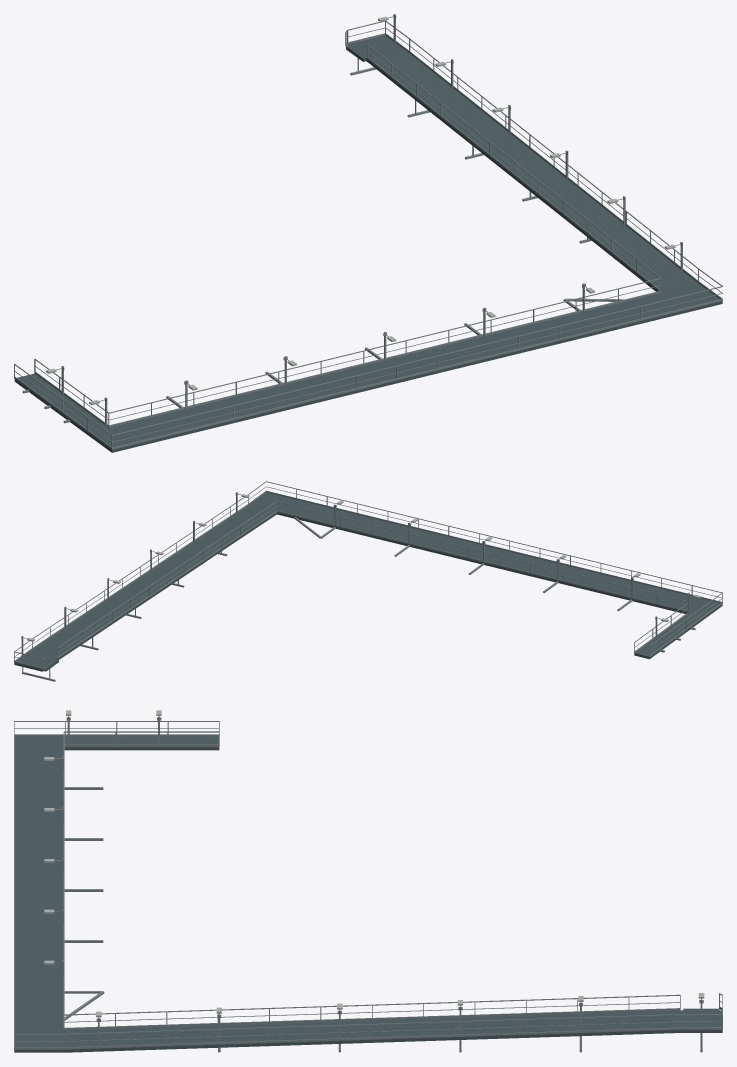
Rendered from AQUATIC_EXTERNAL_SERVICE_RECEIVER_r002.glb.
The picture shows the model from 3 angles, top to bottom: view 1: azimuth 30°, elevation 25°; view 2: azimuth 150°, elevation 25°; view 3: azimuth 270°, elevation 25°; orthographic projection. The views are drawn at different scales.
Parts seen in each view (by area): view 1: AQER_BATCH_007_SouthWest, AQER_BATCH_000_East, AQER_BATCH_005_South, AQER_BATCH_002_East, AQER_BATCH_009_West; view 2: AQER_BATCH_007_SouthWest, AQER_BATCH_000_East, AQER_BATCH_005_South, AQER_BATCH_002_East, AQER_BATCH_009_West; view 3: AQER_BATCH_007_SouthWest, AQER_BATCH_000_East, AQER_BATCH_002_East, AQER_BATCH_009_West, AQER_BATCH_005_South.
Part boxes in pixels (x1=…): AQER_BATCH_007_SouthWest: x1=14, y1=283, x2=722, y2=452; AQER_BATCH_000_East: x1=346, y1=35, x2=698, y2=292; AQER_BATCH_005_South: x1=108, y1=278, x2=722, y2=449; AQER_BATCH_002_East: x1=345, y1=14, x2=722, y2=299; AQER_BATCH_009_West: x1=14, y1=358, x2=111, y2=449; AQER_BATCH_007_SouthWest: x1=249, y1=492, x2=722, y2=659; AQER_BATCH_000_East: x1=14, y1=505, x2=276, y2=671; AQER_BATCH_005_South: x1=266, y1=481, x2=722, y2=612; AQER_BATCH_002_East: x1=14, y1=481, x2=276, y2=681; AQER_BATCH_009_West: x1=634, y1=592, x2=722, y2=656; AQER_BATCH_007_SouthWest: x1=14, y1=736, x2=219, y2=1052; AQER_BATCH_000_East: x1=64, y1=1008, x2=722, y2=1052; AQER_BATCH_002_East: x1=14, y1=993, x2=722, y2=1052; AQER_BATCH_009_West: x1=14, y1=714, x2=219, y2=747; AQER_BATCH_005_South: x1=14, y1=721, x2=104, y2=1049.
Size of the model in its own units: 49.63 by 3.86 by 47.05.
Materials: 4 (3 with a texture image).
